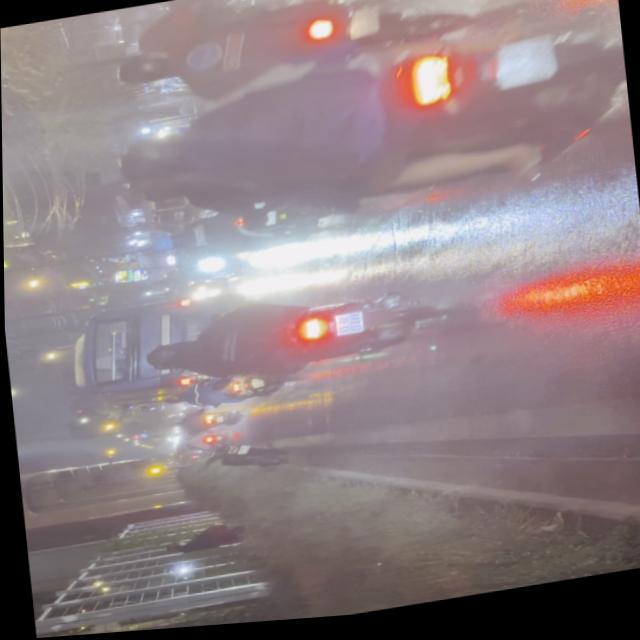helmet: (140, 340, 197, 379)
licenseplate: (108, 28, 636, 268), (103, 0, 492, 113), (134, 280, 441, 407)
nohelmet: (492, 41, 556, 96), (344, 7, 382, 44), (331, 315, 363, 340)
